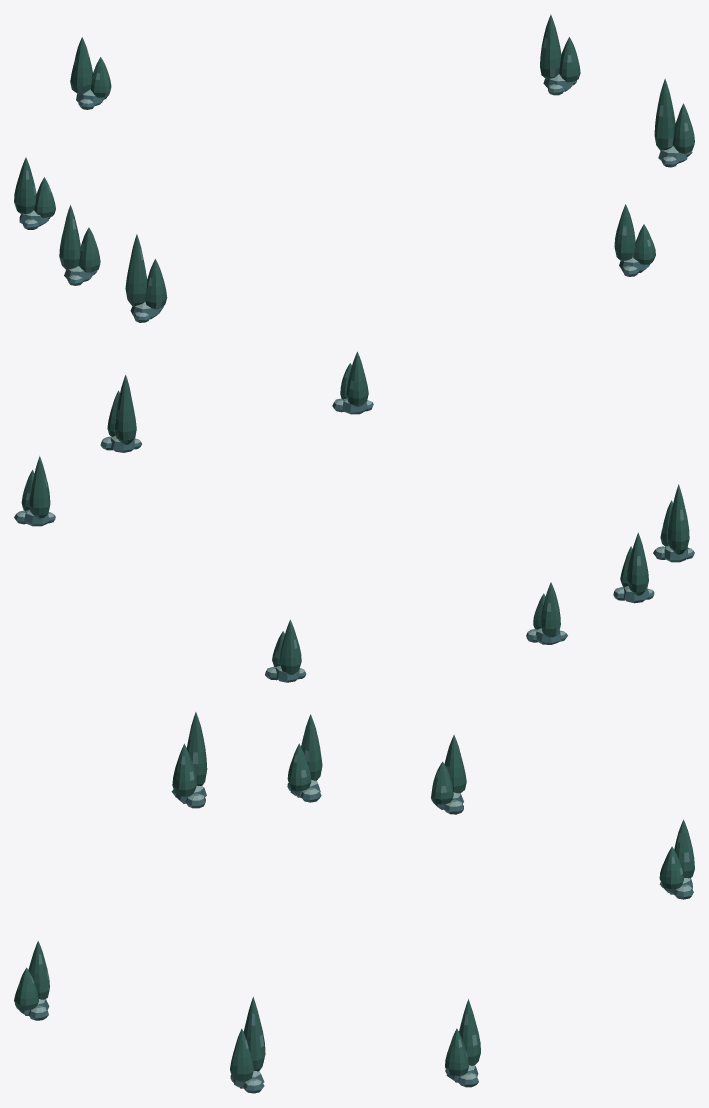
Rendered from world11-rim-environment.glb.
3 views of the same model, one above another, from view 1: azimuth 30°, elevation 25°; view 2: azimuth 150°, elevation 25°; view 3: azimuth 270°, elevation 25° (orthographic). The views are drawn at different scales.
Parts seen in each view (by area): view 1: W11_Rim_Cypress_Basalt_Geometry; view 2: W11_Rim_Cypress_Basalt_Geometry; view 3: W11_Rim_Cypress_Basalt_Geometry.
Boxes of the visible parts, x1=… form: W11_Rim_Cypress_Basalt_Geometry: x1=14, y1=14, x2=694, y2=322; W11_Rim_Cypress_Basalt_Geometry: x1=14, y1=351, x2=694, y2=682; W11_Rim_Cypress_Basalt_Geometry: x1=14, y1=712, x2=694, y2=1093.
Size of the model in its own units: 51 by 6.56 by 47.48.
